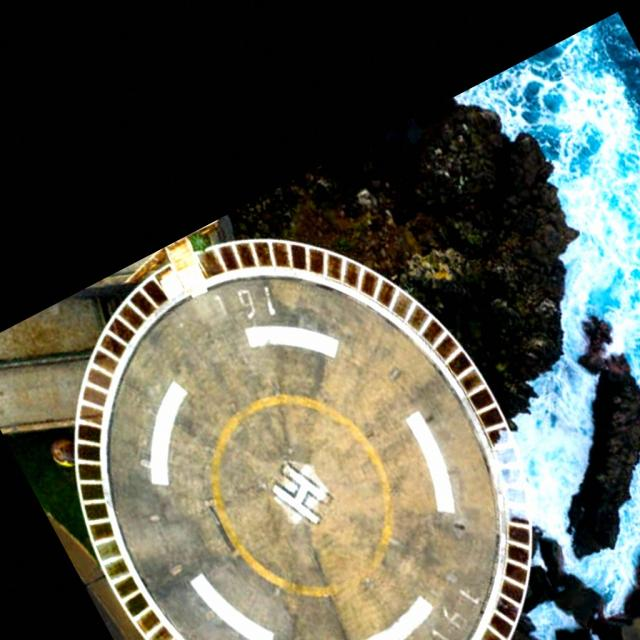helipad: (204, 388, 395, 599)
